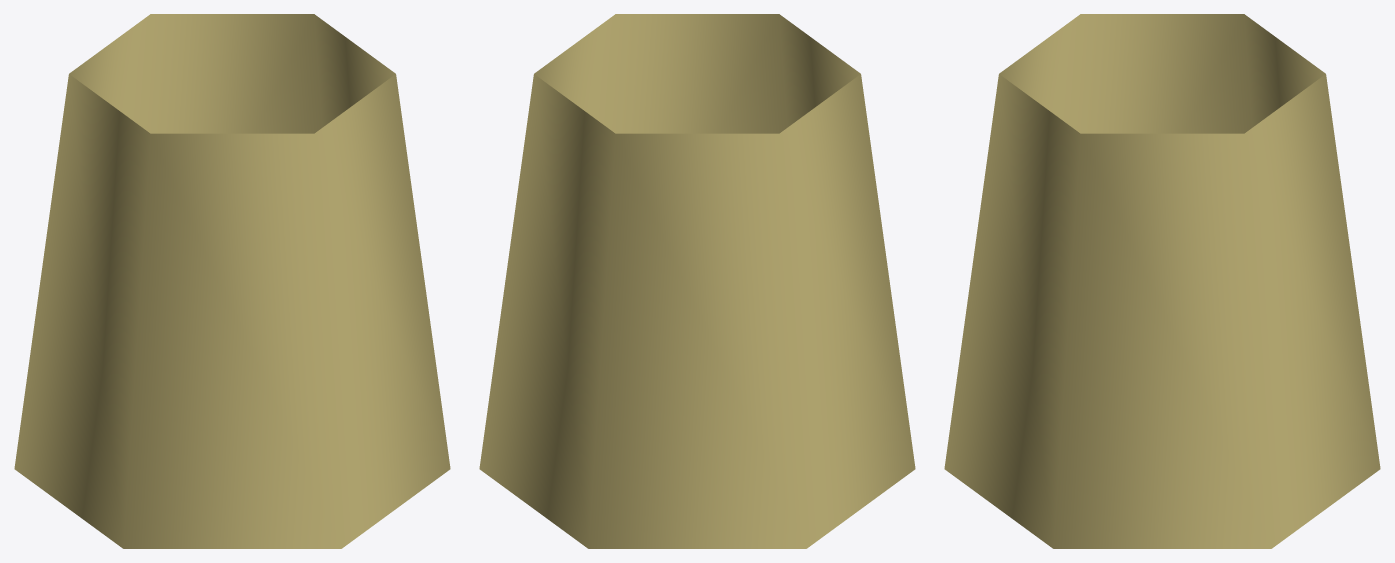
File: paddy_bundle.glb
The picture shows the model from 3 angles, left to right: view 1: azimuth 30°, elevation 25°; view 2: azimuth 150°, elevation 25°; view 3: azimuth 270°, elevation 25°; orthographic projection.
Visible parts, largest first — view 1: Bundle_Node; view 2: Bundle_Node; view 3: Bundle_Node.
Boxes of the visible parts, <box> form: Bundle_Node: <box>14,14,450,548</box>; Bundle_Node: <box>479,14,915,548</box>; Bundle_Node: <box>944,14,1380,548</box>.
Size of the model in its own units: 0.6928 by 0.8 by 0.8.
